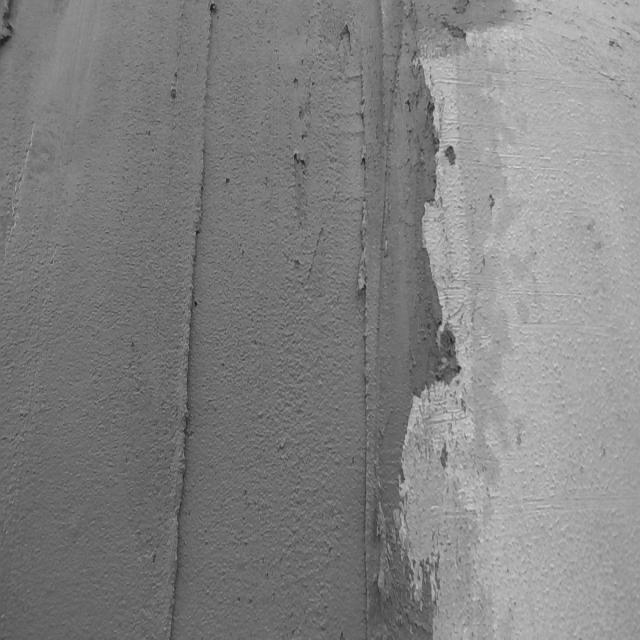trowels marks: (170, 7, 218, 640), (355, 50, 377, 640)
